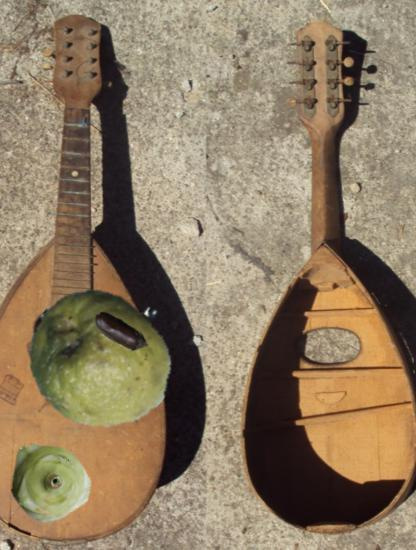Eggplant: (90, 301, 153, 364)
Kohlrabi: (6, 436, 93, 523)
Limes: (29, 283, 177, 431)
